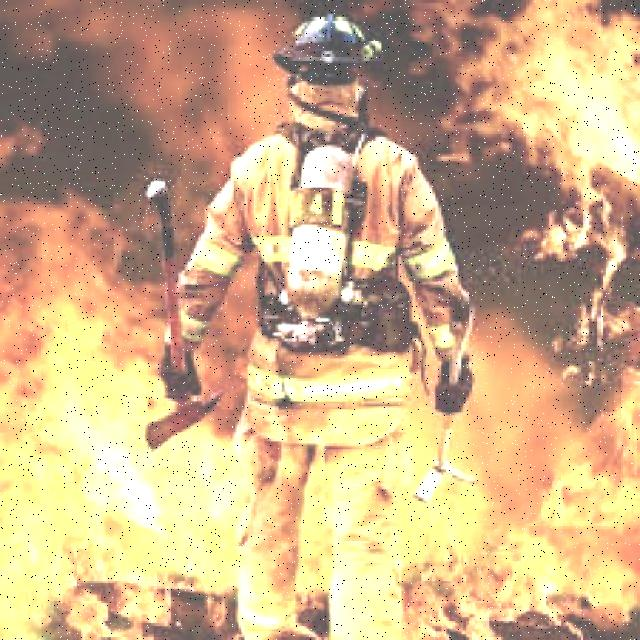Mask: (196, 125, 461, 638)
